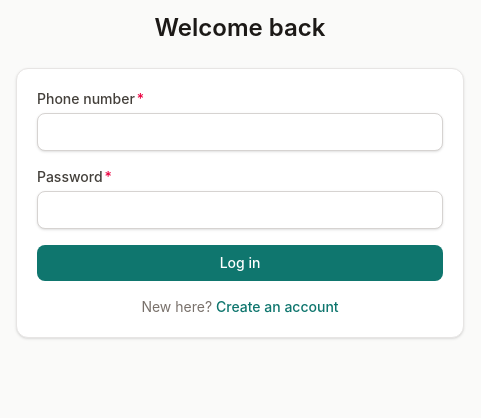
Scenario: LoginPage › shows an error for invalid credentials
Type "0712345678" into the field labelled "Phone number*".
click(240, 132); type("0712345678")  # box [37,113,443,151]
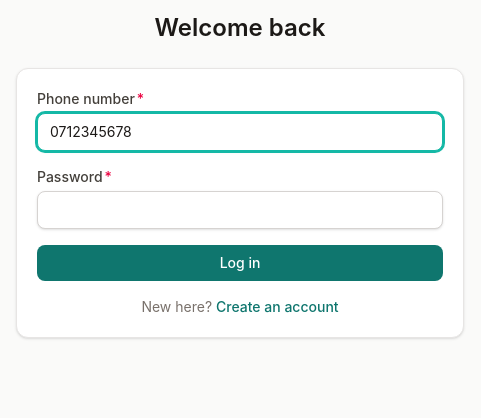
Type "wrongpassword1" into the password field labelled "Password*".
click(240, 210); type("wrongpassword1")  # box [37,191,443,229]
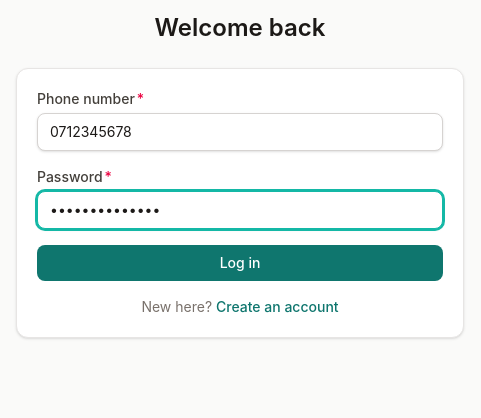
Click the button "Log in".
click(240, 263)  # box [37,245,443,281]
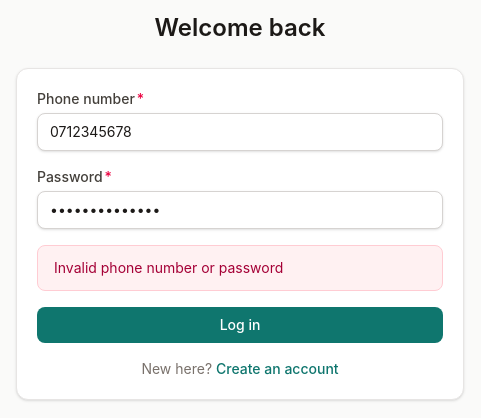
Now the message reads "Invalid phone number or password", box [54,259,283,276]
